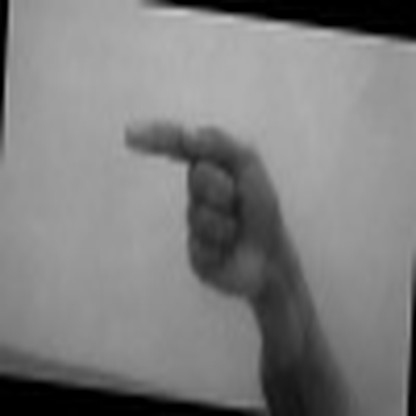g: (121, 111, 286, 297)
